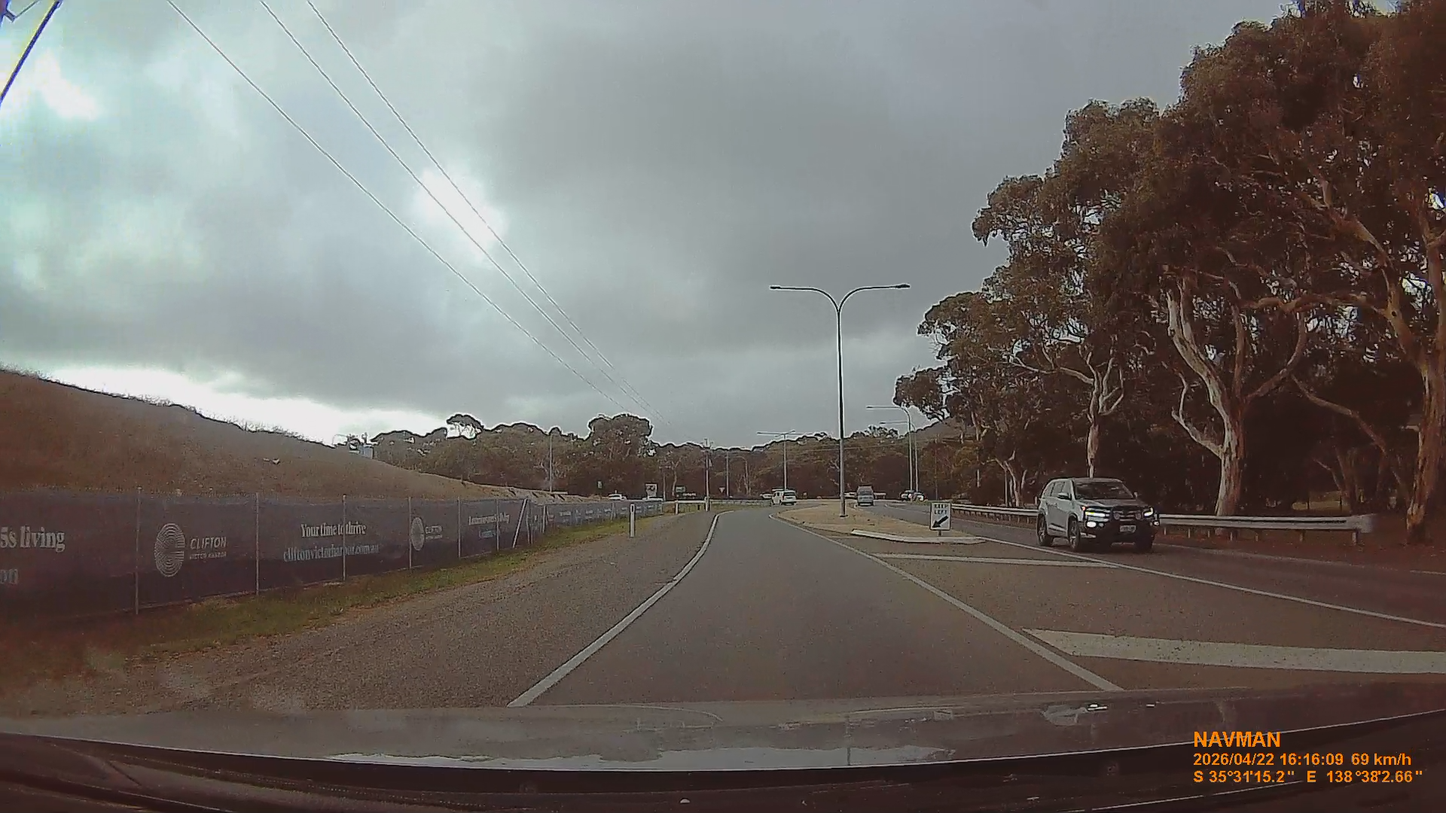road barriers: (1151, 513, 1377, 546), (673, 499, 709, 513)
